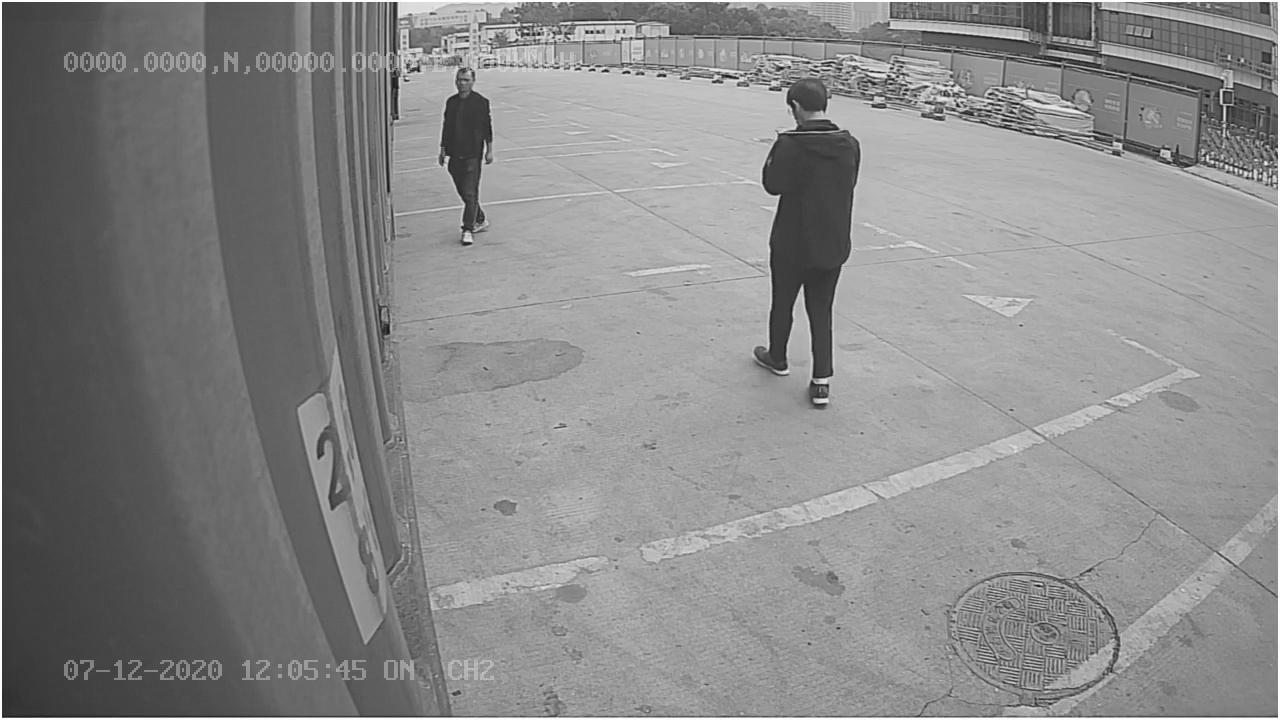person: (745, 78, 863, 406)
